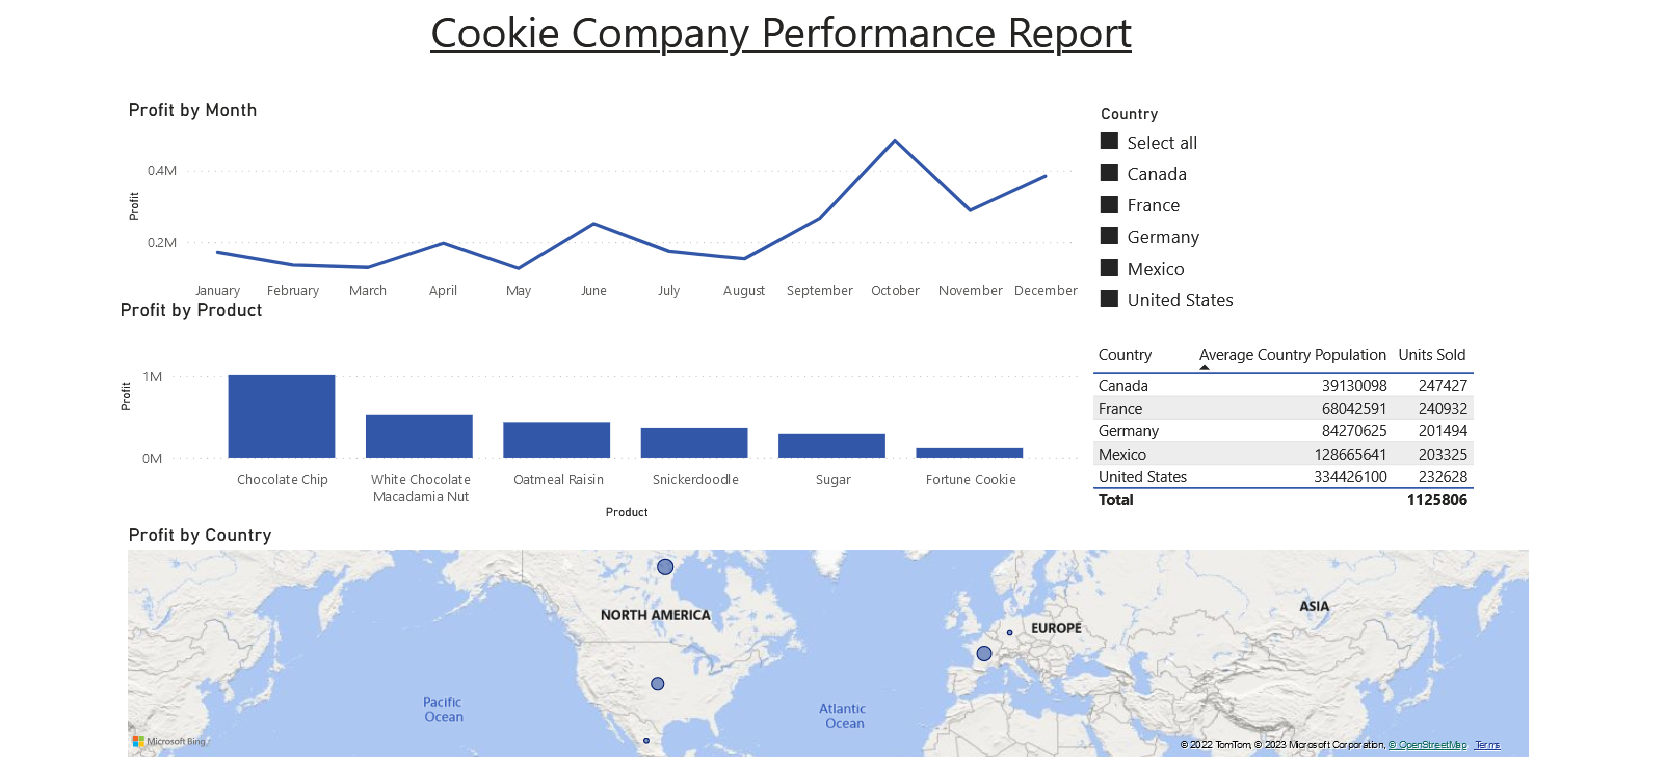

This screenshot's page, from the dashboard's own definition file:
{"tool":"powerbi","page":{"name":"Page 1","canvas":[1280,720],"ordinal":0},"visuals":[{"type":"textbox","box":[279.9,0,719,93.3],"z":0},{"type":"lineChart","fields":{"Category":["Cookie Sales.Date.Variation.Date Hierarchy.Month"],"Y":["Sum(Cookie Sales.Profit)"]},"box":[12.1,92.8,852.6,203.1],"z":1000},{"type":"map","fields":{"Category":["Cookie Sales.Country"],"Size":["Sum(Cookie Sales.Profit)"]},"box":[12.1,482.8,1248,219.2],"z":2000},{"type":"tableEx","fields":{"Values":["Cookie Sales.Country","Cookie Sales.Country Population.Population","Sum(Cookie Sales.Units Sold)"]},"box":[864.7,310.7,376.6,164.1],"z":3000},{"type":"columnChart","fields":{"Category":["Cookie Sales.Product"],"Y":["Sum(Cookie Sales.Profit)"]},"box":[5.4,277,859.3,205.8],"z":4000},{"type":"slicer","fields":{"Values":["Cookie Sales.Country"]},"box":[864.7,92.8,376.6,217.9],"z":5000}]}

Visuals, with their boxes in screenshot pixels (x1, y1, x2, y2):
textbox: 509:0:1250:48
lineChart - Cookie Sales.Date.Variation.Date Hierarchy.Month x Sum(Cookie Sales.Profit): 233:48:1112:257
map - Cookie Sales.Country x Sum(Cookie Sales.Profit): 233:450:1520:676
tableEx - Cookie Sales.Country x Cookie Sales.Country Population.Population: 1112:273:1500:442
columnChart - Cookie Sales.Product x Sum(Cookie Sales.Profit): 227:238:1112:450
slicer - Cookie Sales.Country: 1112:48:1500:273
